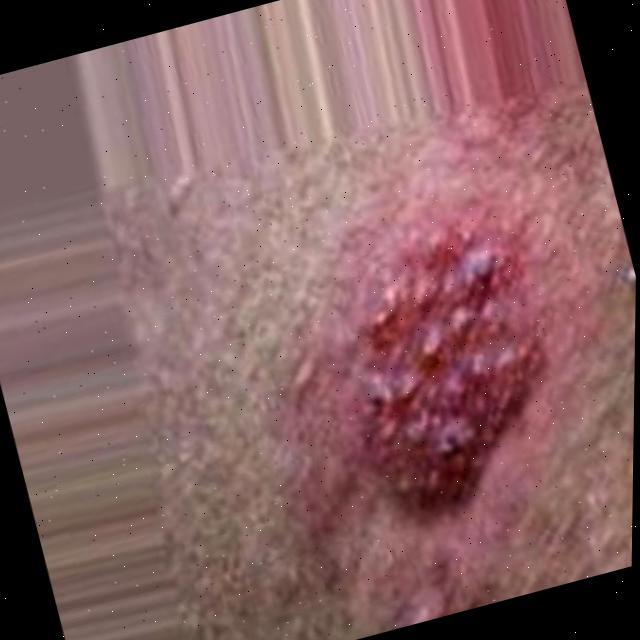Shingles: (311, 219, 577, 526), (388, 594, 444, 630)
